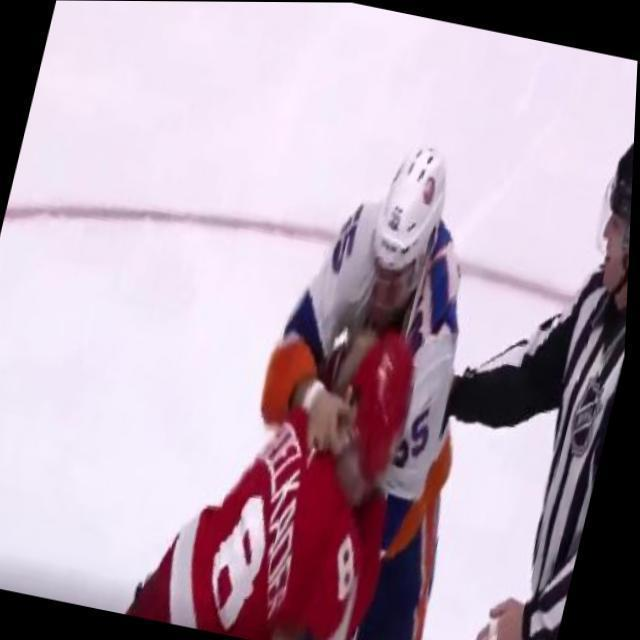fight: (163, 111, 546, 640)
